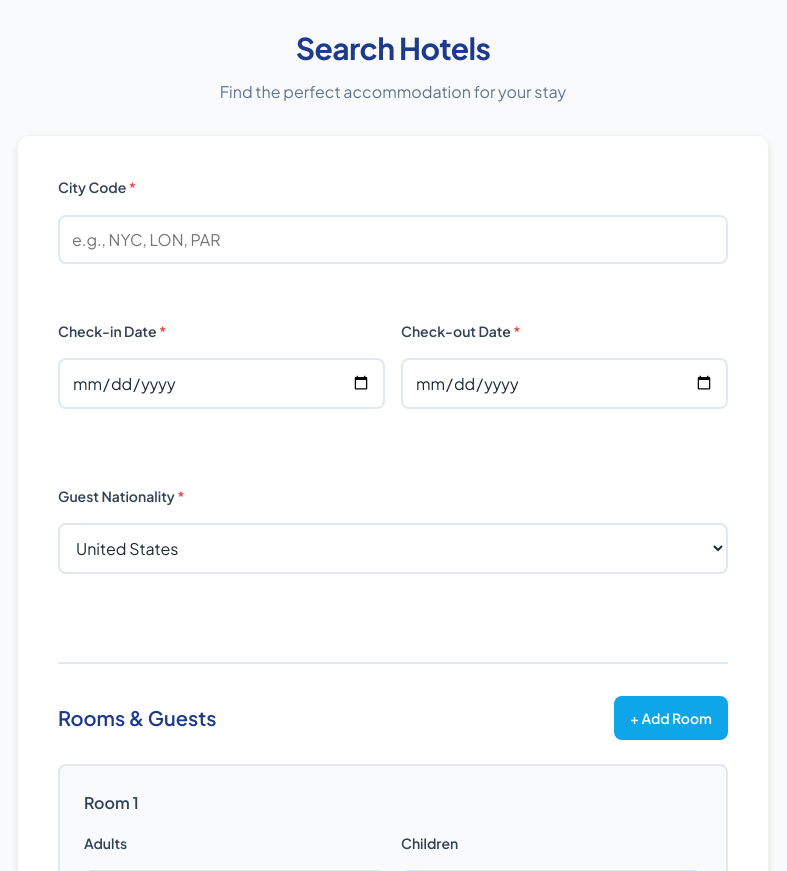
Test: HotelSearchForm › Form Validation › should show error when check-in date is empty
This screenshot has width=787, height=871.
Type "NYC" into the field labelled "City Code *" at (393, 239), box [58,215,728,264]
(page scrolled)
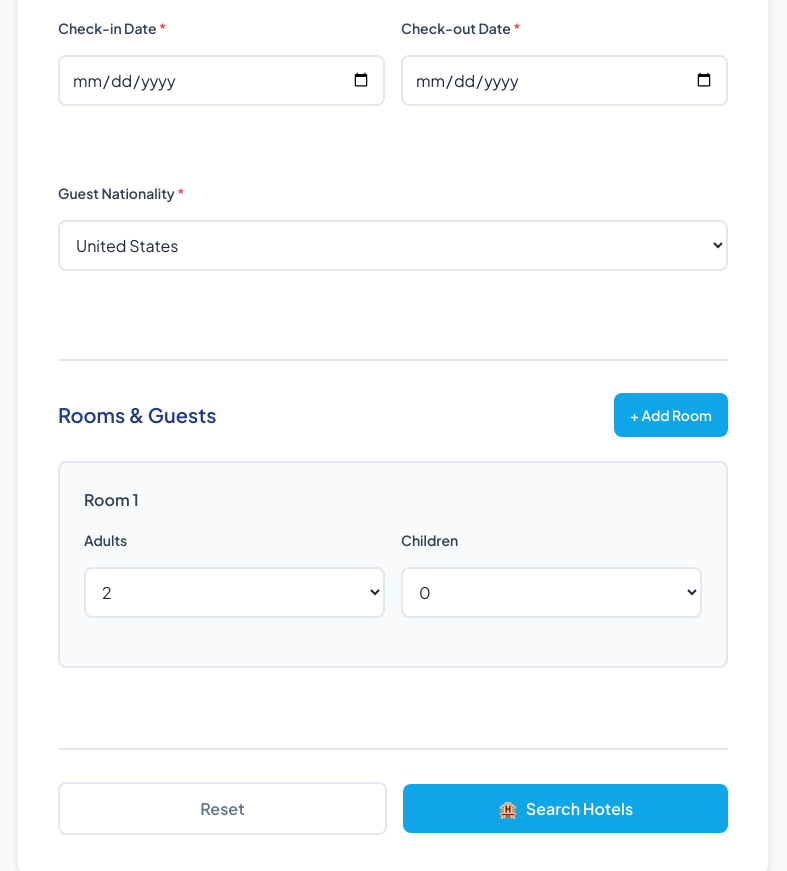
Click the button "🏨 Search Hotels" at (566, 809), box [403,784,728,833]
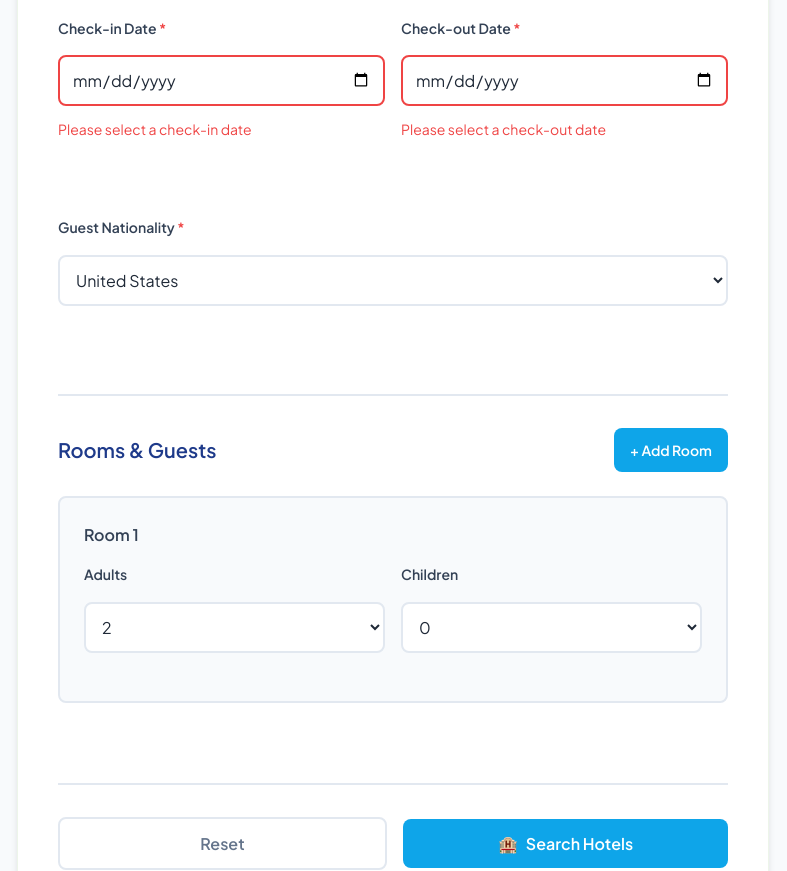
Expected: the text "Please select a check-in date" is shown, [58,120,252,138]
